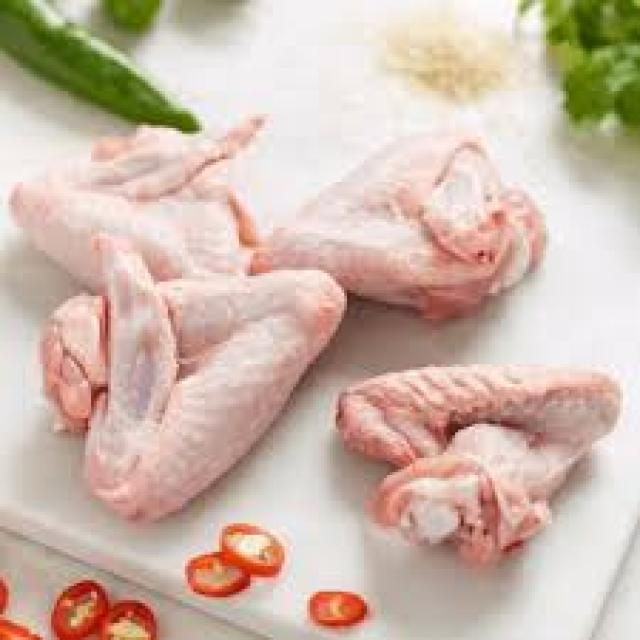wing: (36, 254, 346, 516), (332, 364, 620, 576), (266, 123, 540, 315), (5, 108, 272, 282)
